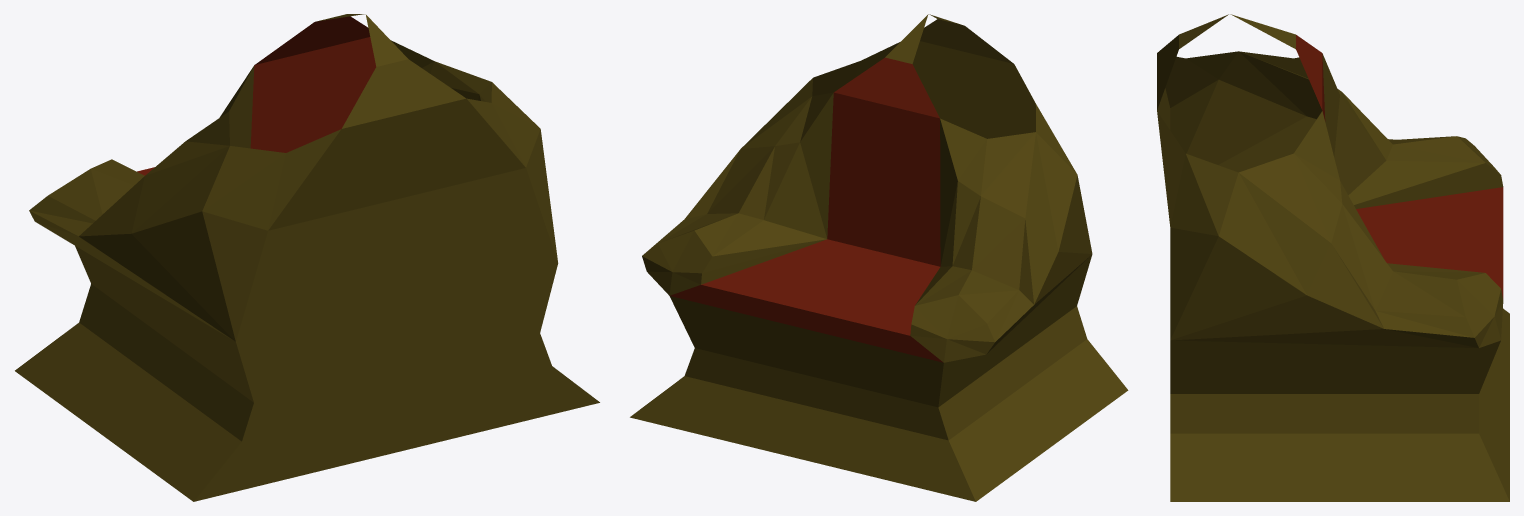
File: obj_ibans_throne_0.obj
3 renders of one model, left to right at view 1: azimuth 30°, elevation 25°; view 2: azimuth 150°, elevation 25°; view 3: azimuth 270°, elevation 25°, orthographic. The views are drawn at different scales.
Size of the model in its own units: 1.61 by 1.54 by 1.25.
